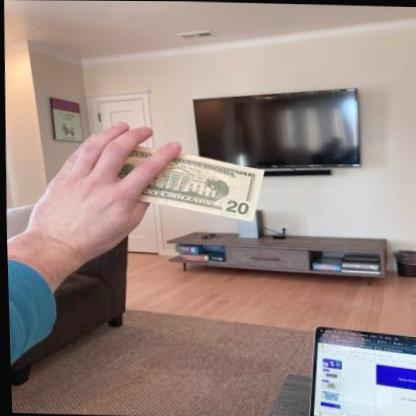dollar_back: (108, 142, 264, 222)
